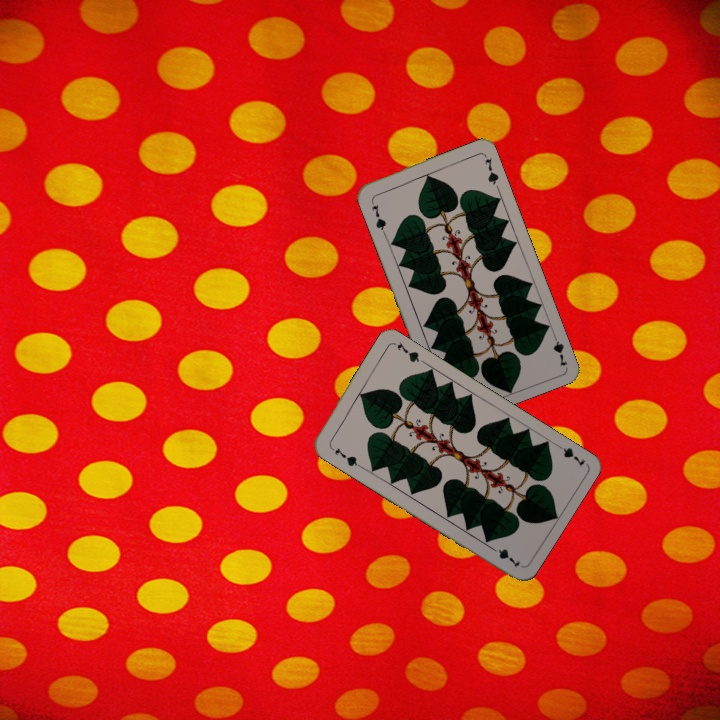G7: (551, 439, 588, 469), (326, 441, 362, 469), (367, 195, 389, 235), (548, 329, 570, 369)
